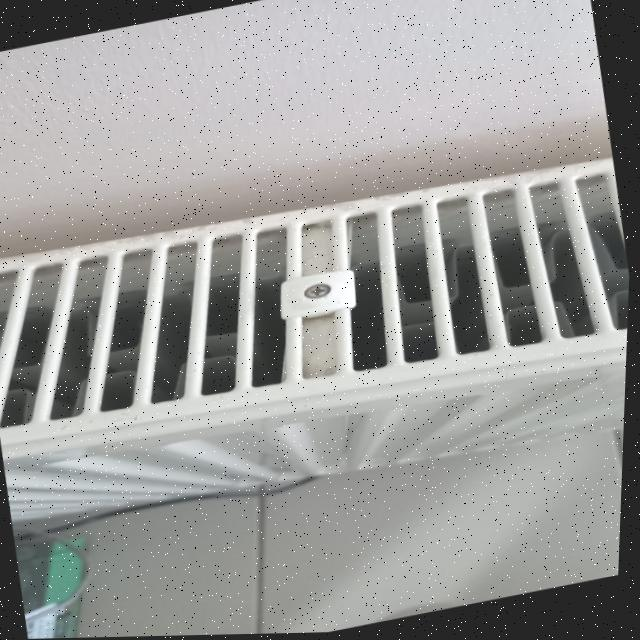Phillips: (275, 267, 362, 314)
